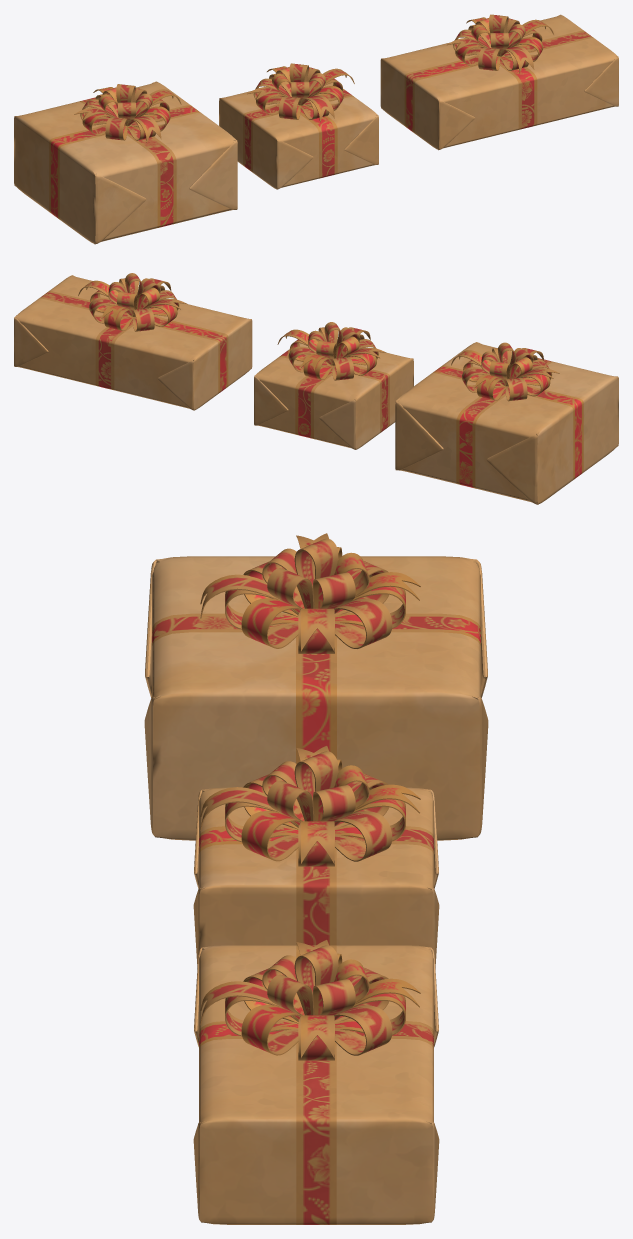
Rendered from gift_box.glb.
3 views of the same model, one above another, from view 1: azimuth 30°, elevation 25°; view 2: azimuth 150°, elevation 25°; view 3: azimuth 270°, elevation 25° (orthographic). The views are drawn at different scales.
Visible parts, largest first — view 1: KuJ CT Gift Box 003.Shape, KuJ CT Gift Box 002.Shape, KuJ CT Gift Box 001.Shape; view 2: KuJ CT Gift Box 003.Shape, KuJ CT Gift Box 002.Shape, KuJ CT Gift Box 001.Shape; view 3: KuJ CT Gift Box 003.Shape, KuJ CT Gift Box 002.Shape, KuJ CT Gift Box 001.Shape.
Boxes of the visible parts, x1,y1,x2,y2 form: KuJ CT Gift Box 003.Shape: (14, 81, 237, 244); KuJ CT Gift Box 002.Shape: (380, 14, 618, 150); KuJ CT Gift Box 001.Shape: (219, 63, 378, 189); KuJ CT Gift Box 003.Shape: (395, 342, 618, 504); KuJ CT Gift Box 002.Shape: (14, 273, 252, 410); KuJ CT Gift Box 001.Shape: (254, 322, 413, 449); KuJ CT Gift Box 003.Shape: (144, 533, 488, 840); KuJ CT Gift Box 002.Shape: (193, 940, 439, 1224); KuJ CT Gift Box 001.Shape: (193, 746, 439, 967).
Size of the model in its own units: 2.44 by 0.4991 by 0.6775.
6 materials, 6 textured.
